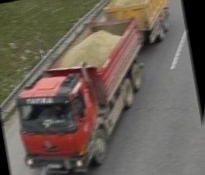truck: (0, 0, 199, 175)
